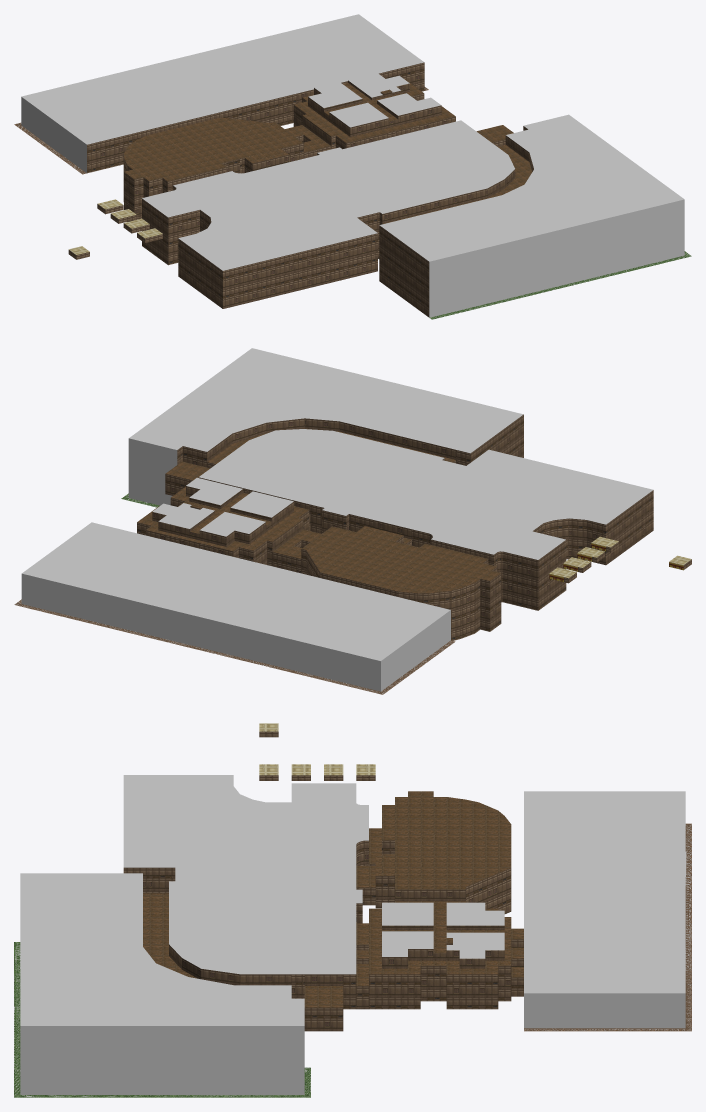
File: MAP01_MAP01.obj
3 views of the same model, one above another, from view 1: azimuth 30°, elevation 25°; view 2: azimuth 150°, elevation 25°; view 3: azimuth 270°, elevation 25° (orthographic). The views are drawn at different scales.
Parts seen in each view (by area): view 1: MAP01; view 2: MAP01; view 3: MAP01.
Part boxes in pixels (<box>): MAP01: <box>14,14,691,319</box>; MAP01: <box>14,348,691,694</box>; MAP01: <box>14,723,691,1097</box>.
Size of the model in its own units: 112 by 13.64 by 104.
